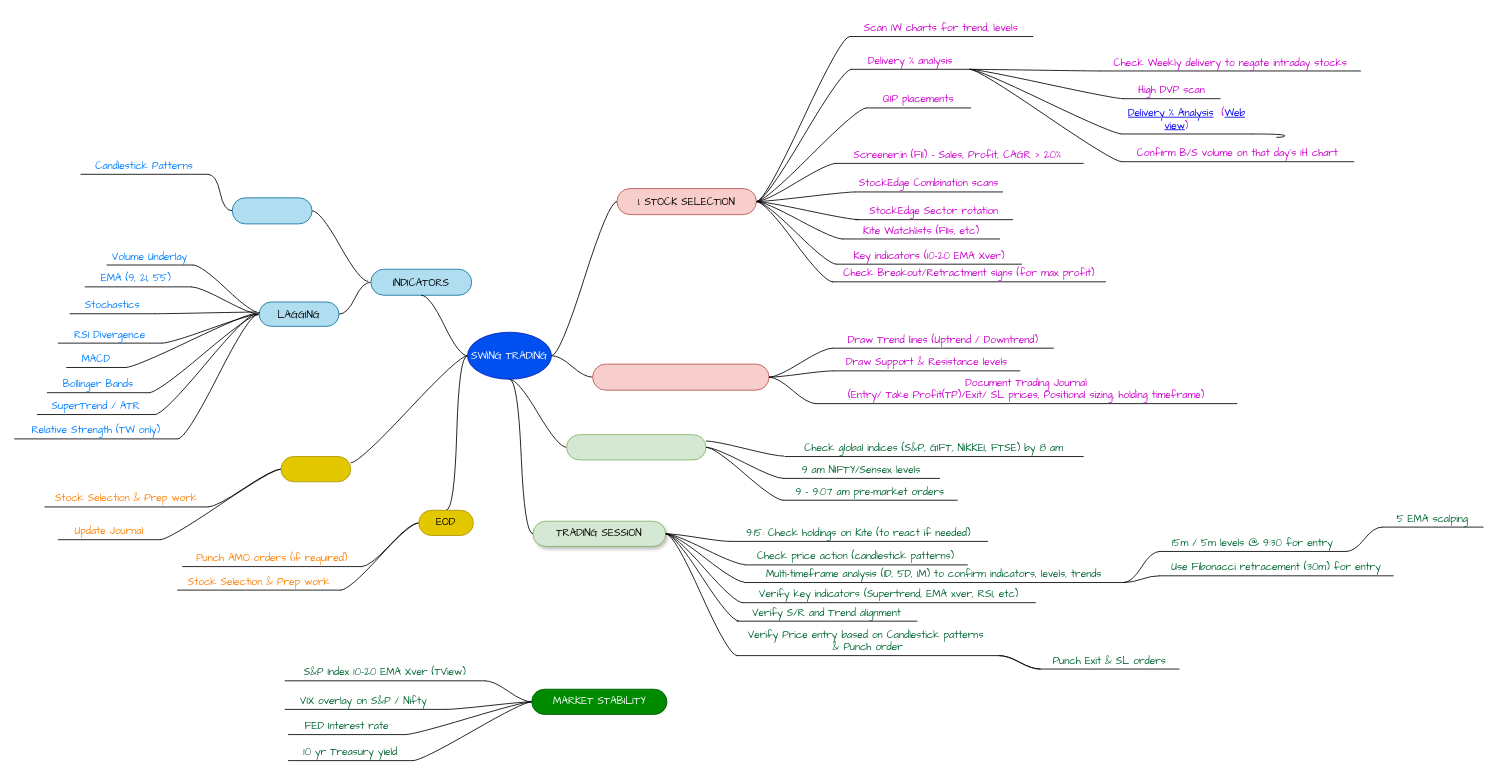
This 1498x775 diagram has some shape labels left out. Each missing label, with the centre of its shape:
LEADING: the point at 271,210
PRE-MARKET TRADING SESSION: the point at 636,447
PREP WORK (Weekend/ Daily): the point at 680,376
WEEKEND: the point at 315,469
